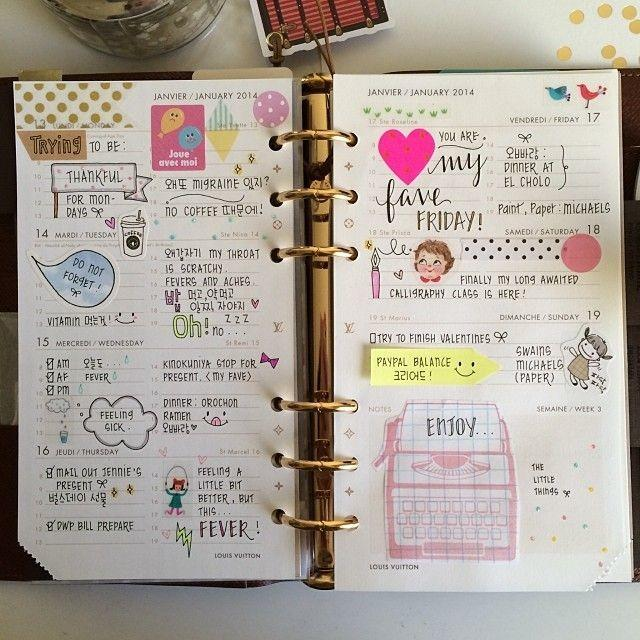paper: (330, 71, 638, 588), (10, 83, 287, 580)
